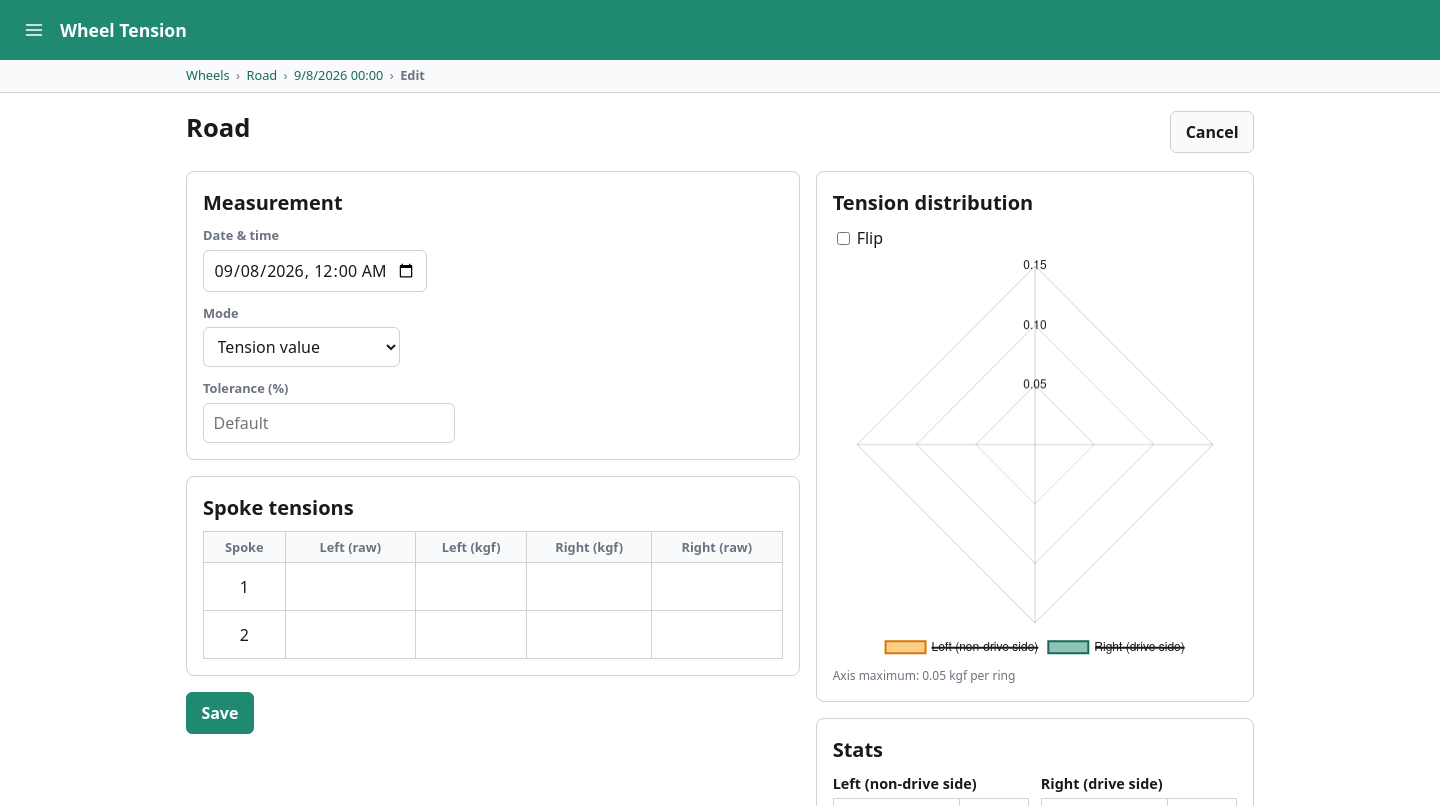
Test: MeasurementEditPage › changes the measurement date and saves it
The width and height of the screenshot is (1440, 806).
Replace the text in the field labelled "Date & time" with "2026-09-10T10:30". click: (315, 271)
box: [203,250,427,292]
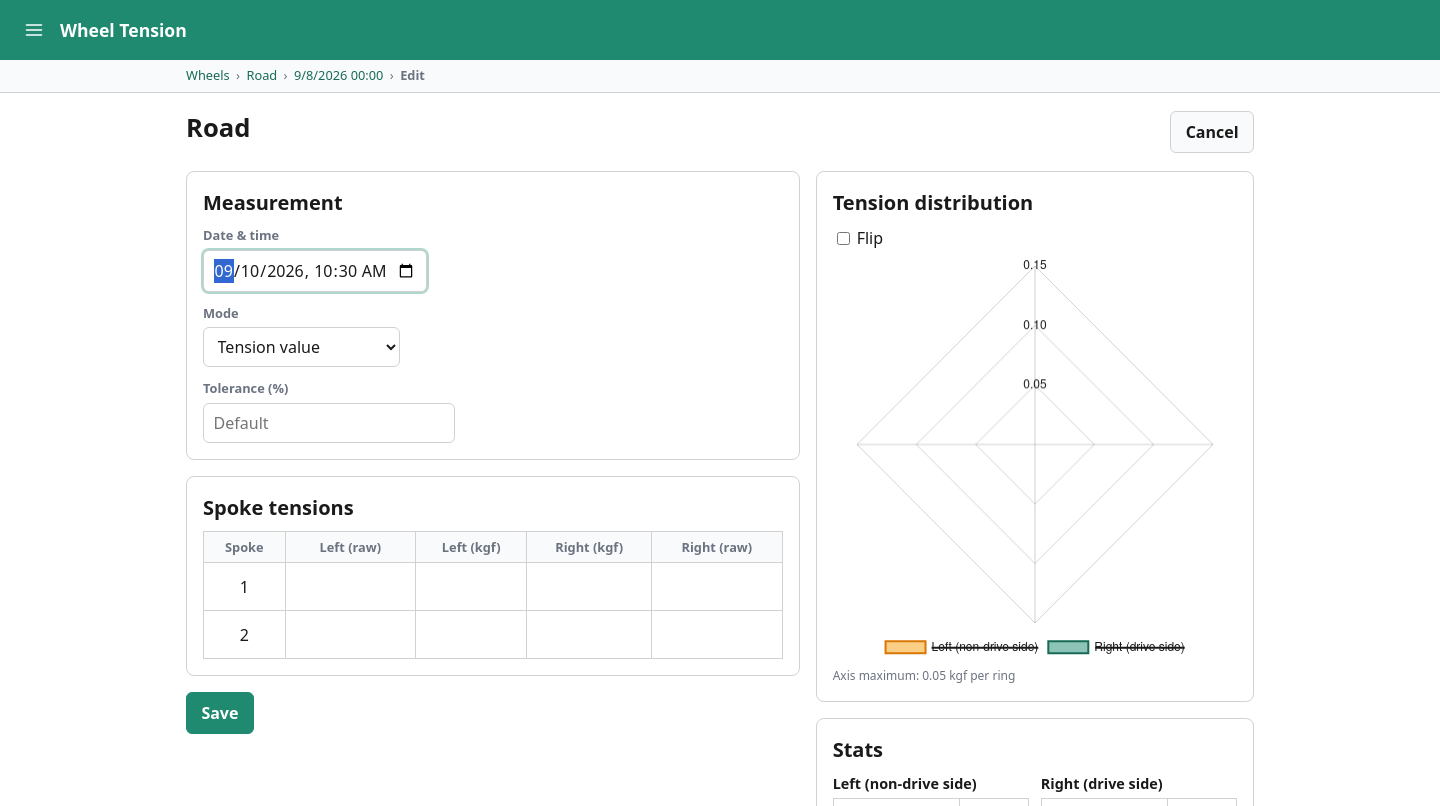
Click the button "Save". click: (220, 713)
box: [186,692,254,734]
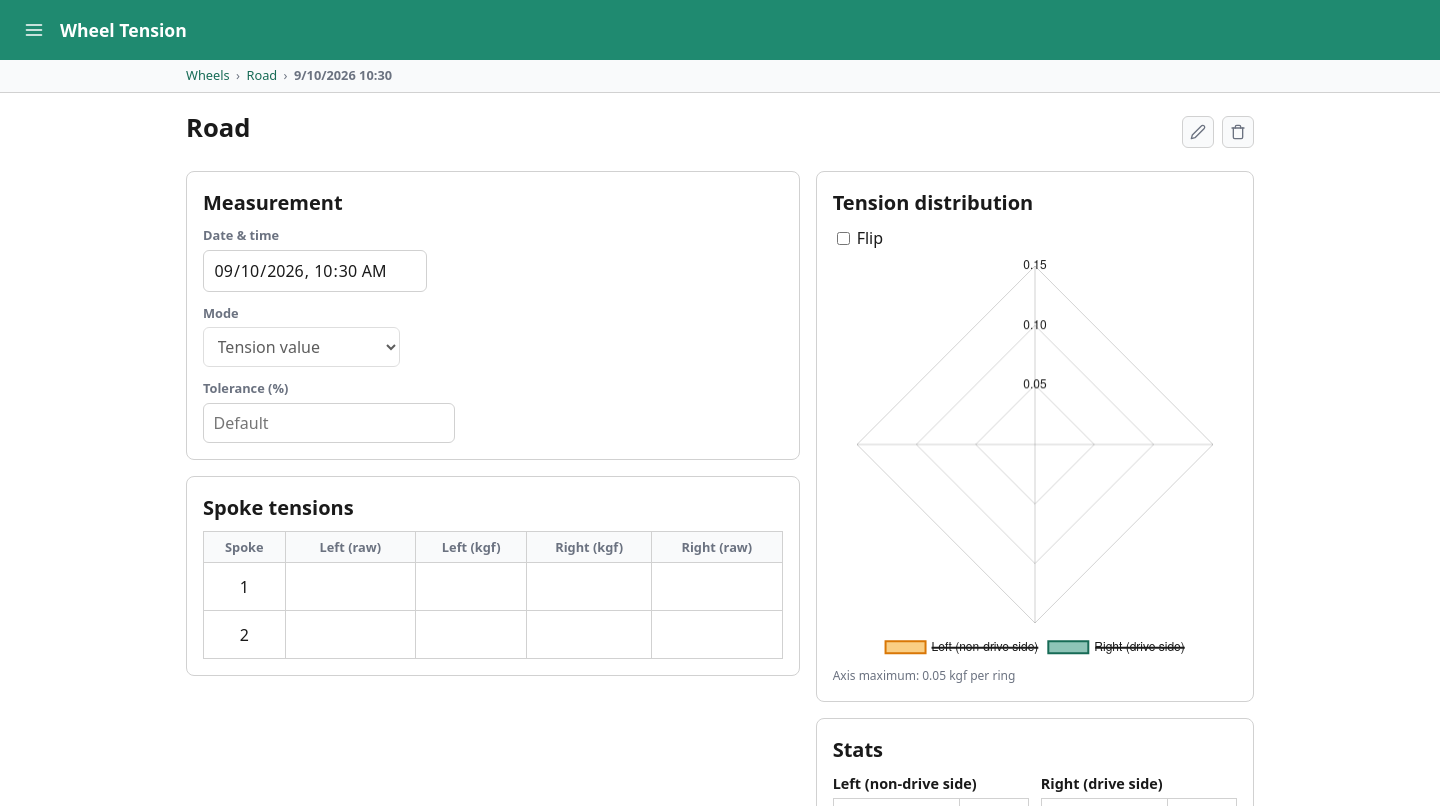
Expected: the heading "Road" is shown, [186,109,250,147]
Expected: the field labelled "Date & time" holds "2026-09-10T10:30", [203,250,427,292]
Expected: the field labelled "Date & time" is disabled, [203,250,427,292]
